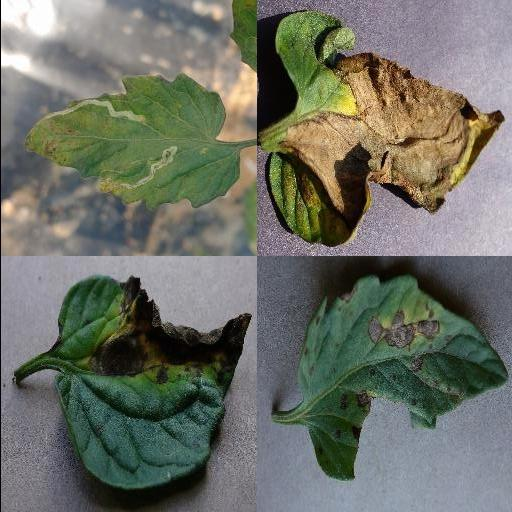Early Blight: (53, 274, 253, 490), (302, 277, 508, 481)
Late Blight: (266, 11, 506, 249)
Leaf Miner: (23, 70, 241, 212)
